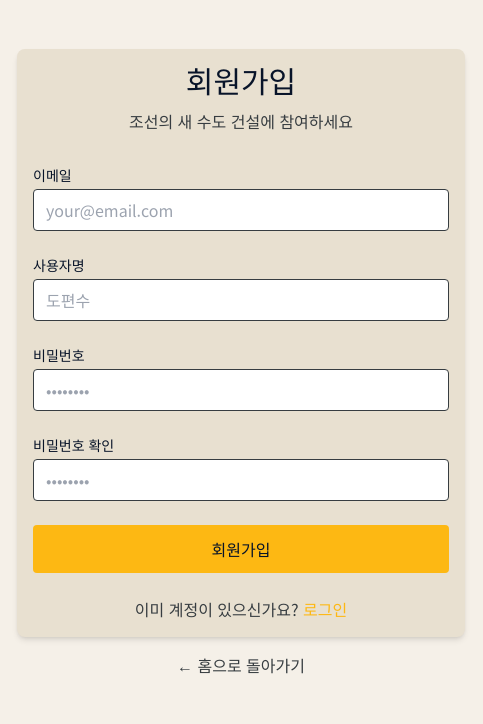
Test: Register Page › Validation › should show error when password is too short
Type "test@example.com" into the field labelled "이메일" at [241, 210], box [33, 189, 449, 231]
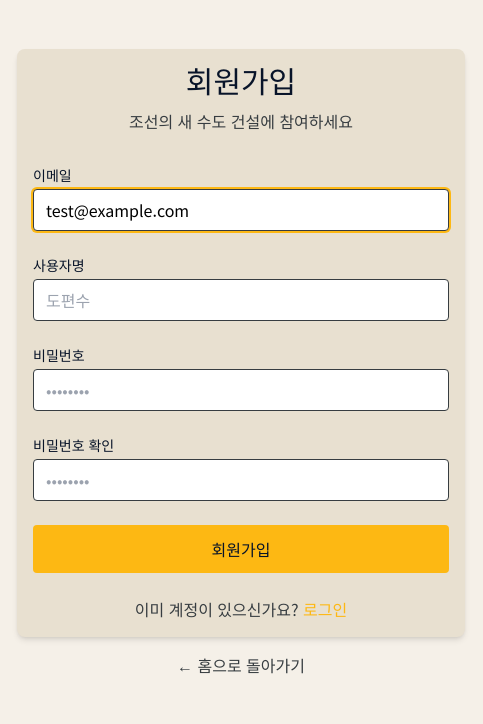
Type "testuser" into the field labelled "사용자명" at [241, 300], box [33, 279, 449, 321]
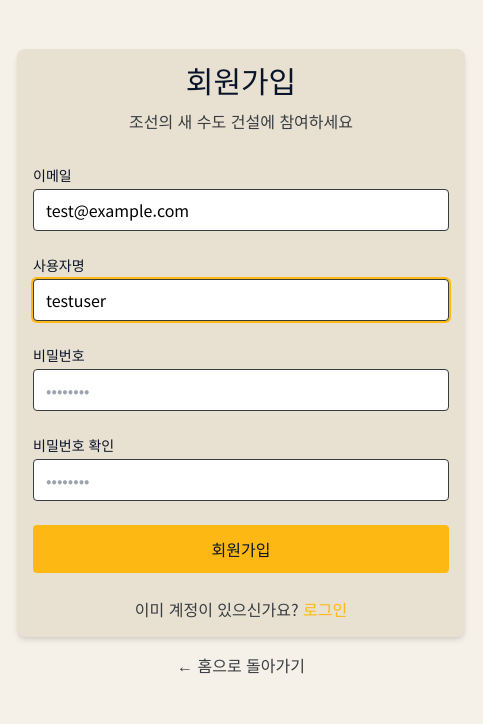
Type "short" into the password field labelled "비밀번호" at [241, 390], box [33, 369, 449, 411]
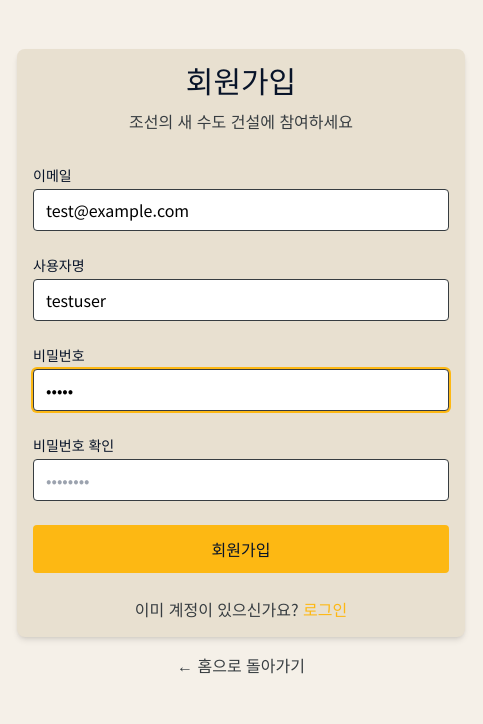
Type "short" into the password field labelled "비밀번호 확인" at [241, 480], box [33, 459, 449, 501]
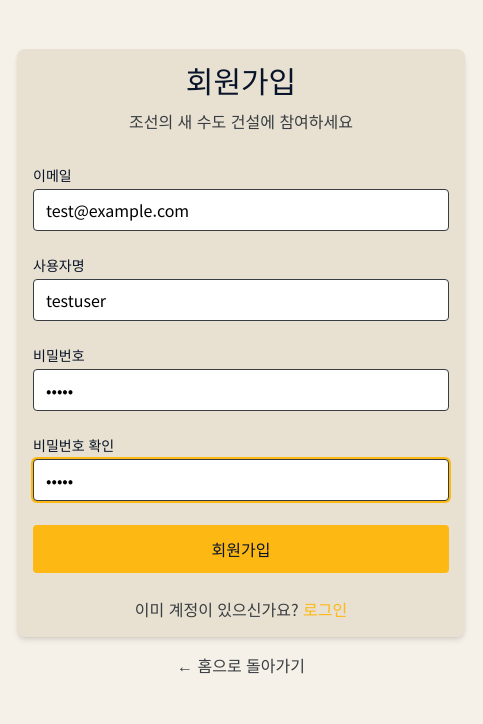
Click the button "회원가입" at [241, 549], box [33, 525, 449, 573]
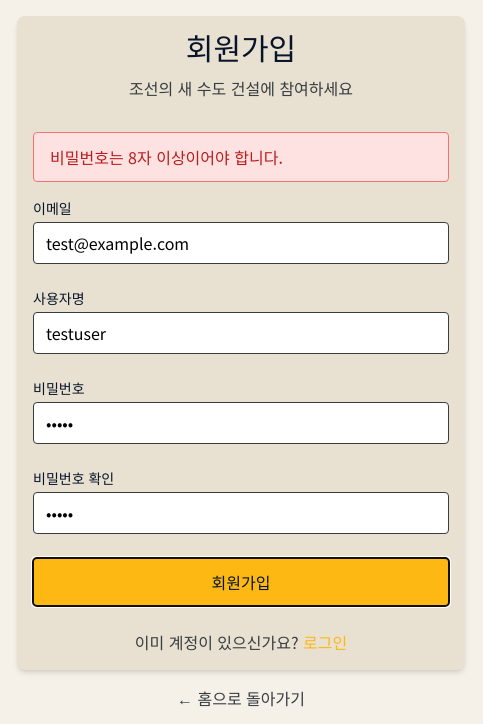
Expected: the text "비밀번호는 8자 이상이어야 합니다." is shown, [33, 132, 449, 182]
